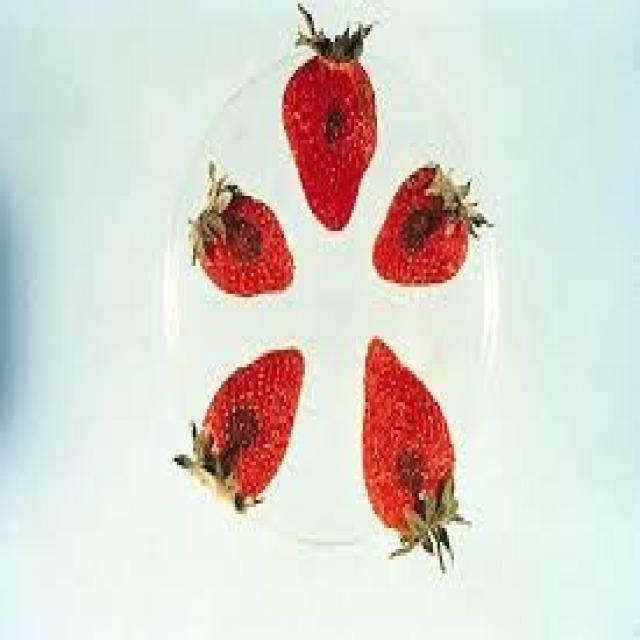Mancha negra Antracnosis: (352, 338, 462, 554), (175, 343, 308, 516), (184, 157, 300, 315), (278, 62, 376, 235), (369, 154, 483, 288)
